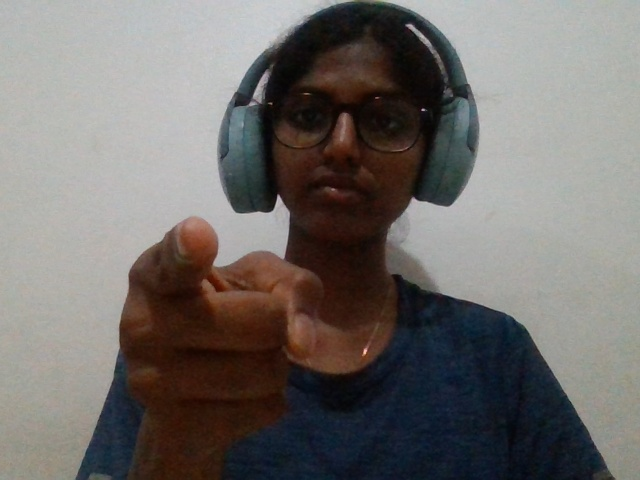You: (90, 204, 340, 473)
